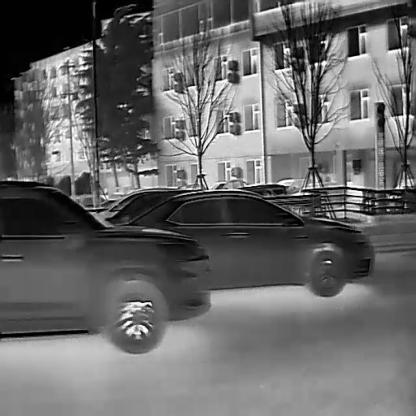car: (0, 179, 211, 354), (112, 186, 375, 297), (70, 193, 106, 206), (277, 178, 305, 194)
